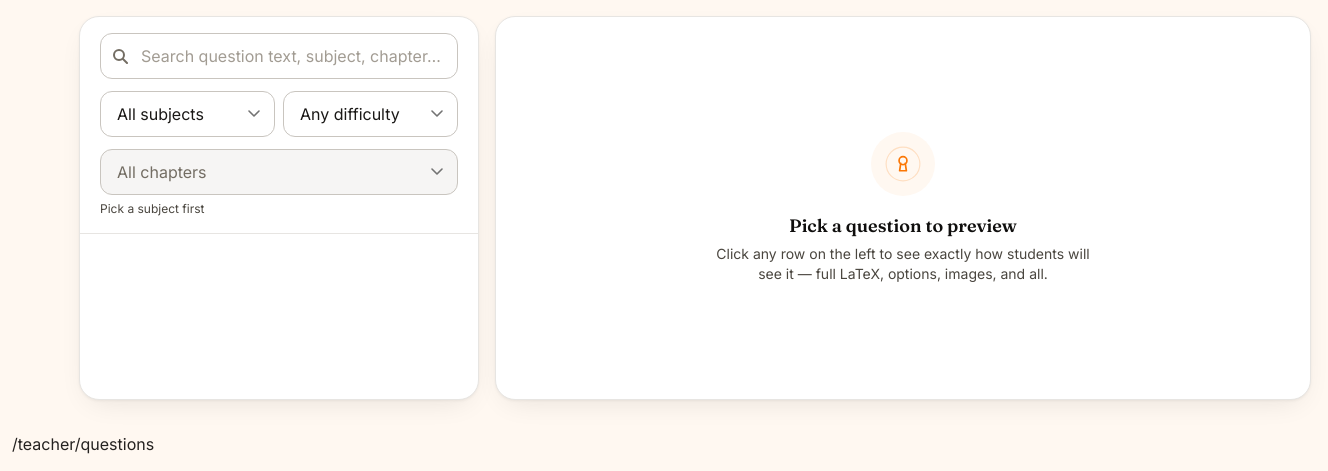
Scenario: QuestionBankPage — URL-driven filters & continuity › pushes search edits into the URL
This screenshot has width=1328, height=471.
In the field with placeholder "Search question text, subject, chapter…": x=279, y=56 [100,33,458,79], type "algebra"
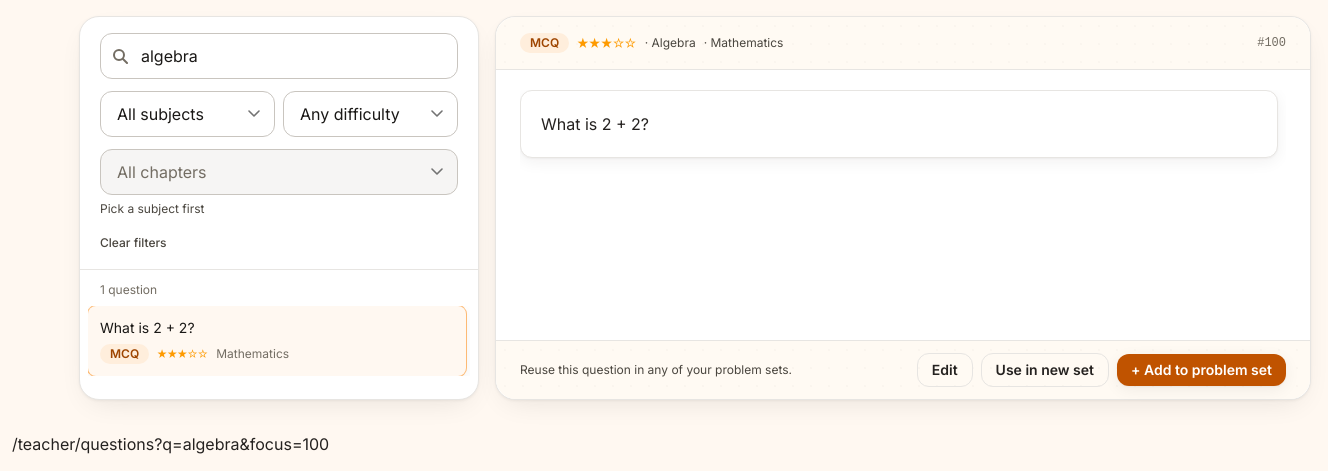
Expected: the text with test id "location" shows "q=algebra", [154,434,329,454]
